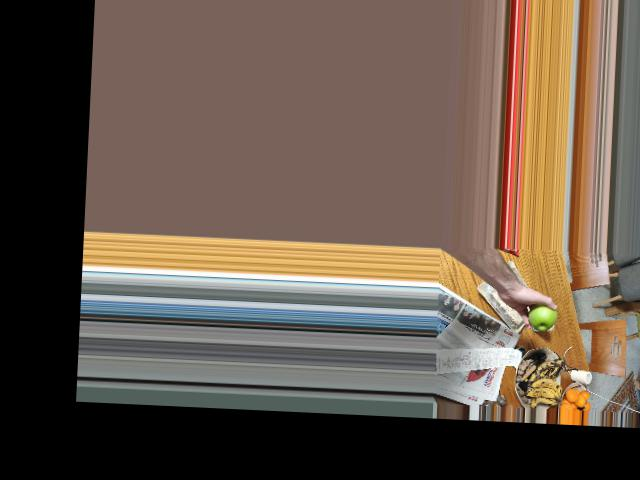apple: (524, 300, 559, 329)
